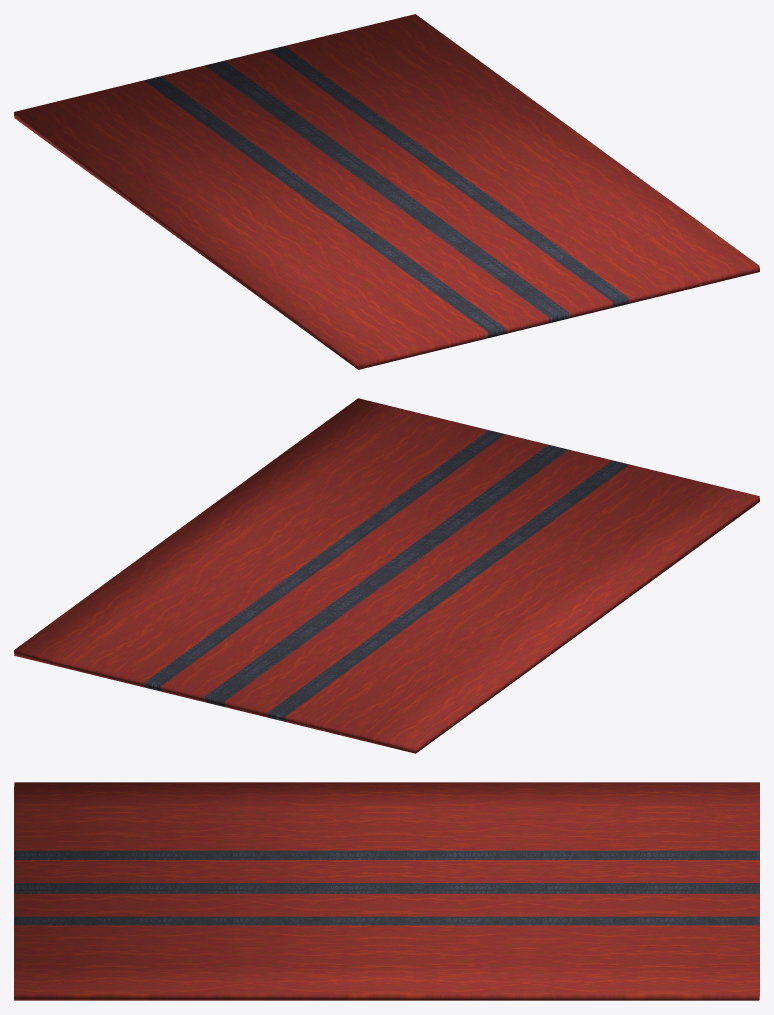
File: RoomRoof_Art.fbx
3 views of the same model, one above another, from view 1: azimuth 30°, elevation 25°; view 2: azimuth 150°, elevation 25°; view 3: azimuth 270°, elevation 25° (orthographic). The views are drawn at different scales.
Parts seen in each view (by area): view 1: RoomRoof_Art; view 2: RoomRoof_Art; view 3: RoomRoof_Art.
Boxes of the visible parts, x1=… form: RoomRoof_Art: x1=14, y1=14, x2=759, y2=369; RoomRoof_Art: x1=14, y1=398, x2=759, y2=753; RoomRoof_Art: x1=14, y1=782, x2=759, y2=1000.
Bounding box in the file's own units: 10.79 × 0.15 × 16.03.
